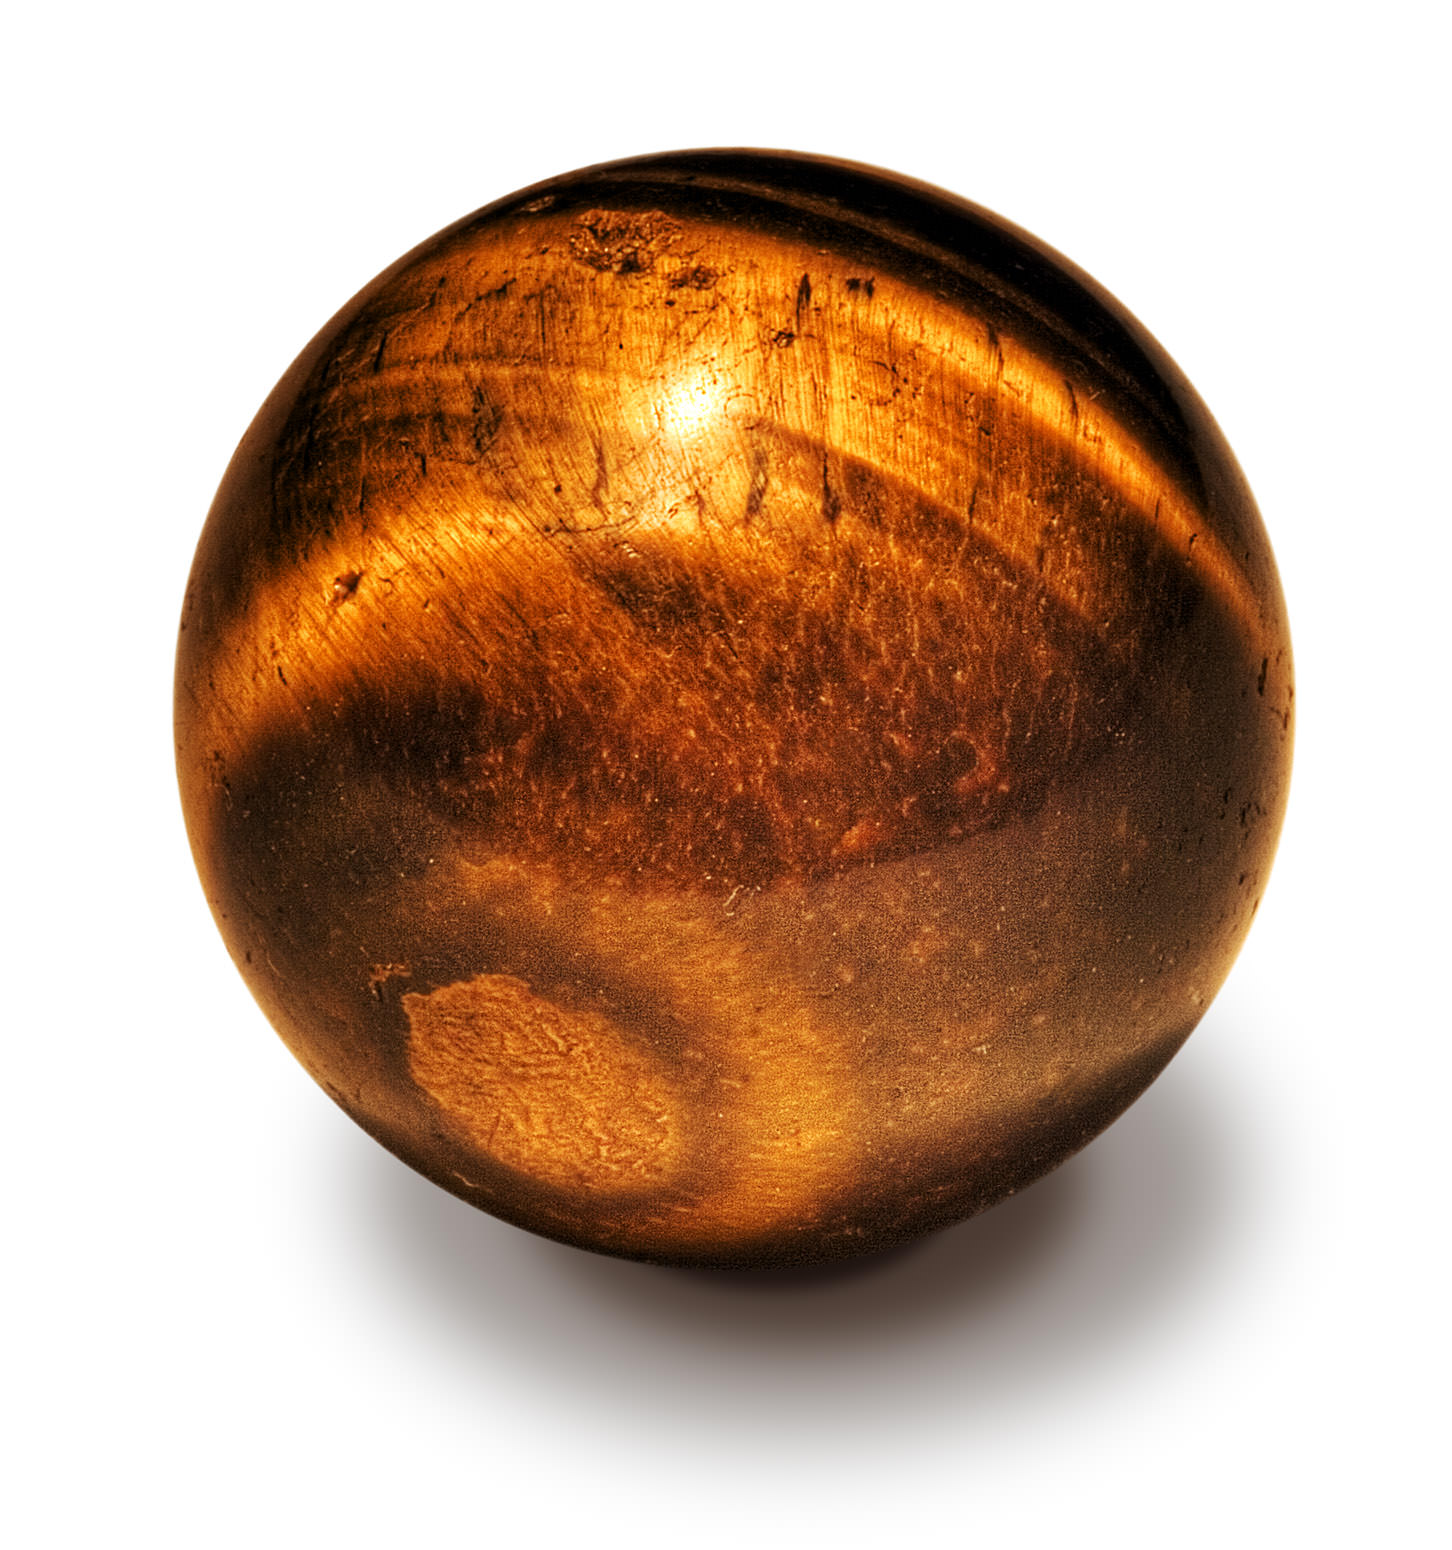Tigers_Eye: (169, 132, 1305, 1280)
